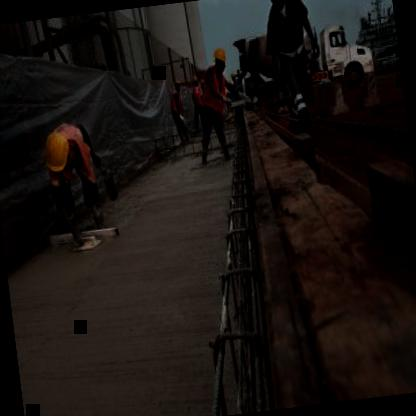helmet: (38, 124, 80, 186), (211, 47, 228, 75), (264, 0, 290, 14)
